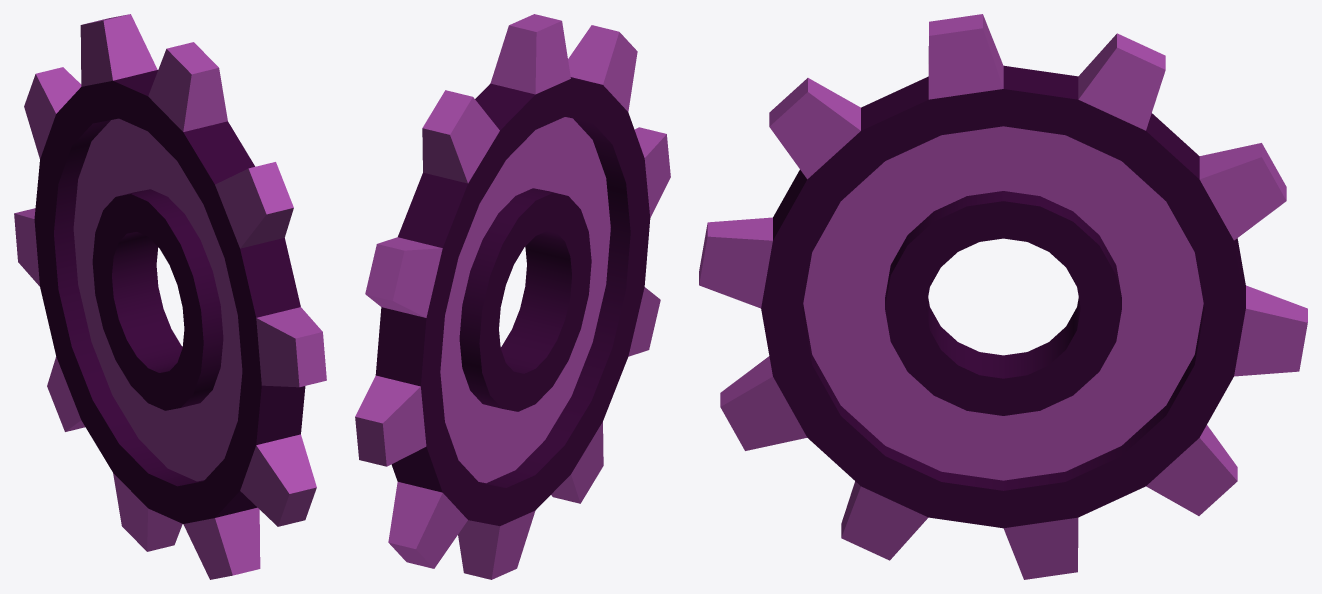
File: Cogwheel.fbx
3 renders of one model, left to right at view 1: azimuth 30°, elevation 25°; view 2: azimuth 150°, elevation 25°; view 3: azimuth 270°, elevation 25°, orthographic. The views are drawn at different scales.
Parts seen in each view (by area): view 1: Cogwheel; view 2: Cogwheel; view 3: Cogwheel.
Boxes of the visible parts, <box> form: Cogwheel: <box>14,14,326,579</box>; Cogwheel: <box>355,14,670,579</box>; Cogwheel: <box>699,14,1307,579</box>.
Size of the model in its own units: 2.07 by 22.89 by 22.89.
